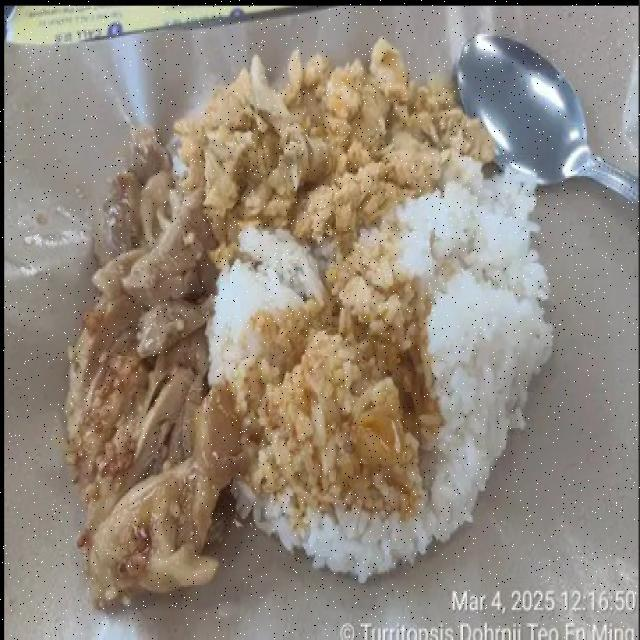Chicken: (67, 129, 240, 606)
Egg: (176, 40, 492, 263)
Rice: (208, 159, 551, 579)
